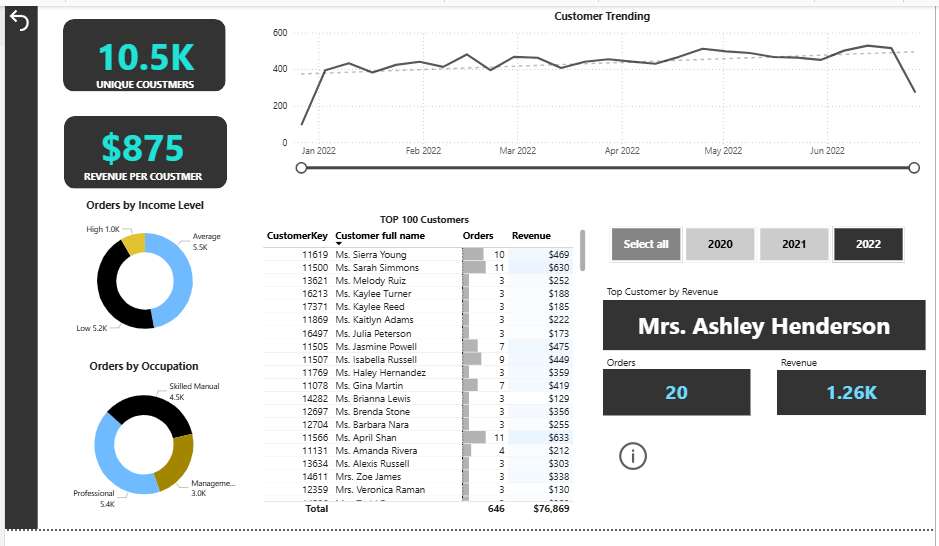

This screenshot's page, from the dashboard's own definition file:
{"tool":"powerbi","page":{"name":"Customer Details","canvas":[1280,720],"ordinal":3},"visuals":[{"type":"shape","box":[0,0,45,720],"z":0},{"type":"shape","box":[80.8,151,224.7,100.1],"z":1000},{"type":"card","fields":{"Values":["Measure table.Average Revenue per coustmer"]},"box":[59.7,126.4,261.6,149.2],"z":2000},{"type":"shape","box":[80,18.6,224.3,100],"z":3000},{"type":"card","fields":{"Values":["Measure table.Total coustmer"]},"box":[62.9,0,258.6,151.4],"z":4000},{"type":"lineChart","title":"Customer Trending","fields":{"Y":["Measure table.Total coustmer"],"Category":["Calendar Lookup.Date Hierarchy.Start of Year","Calendar Lookup.Date Hierarchy.Start of Month","Calendar Lookup.Date Hierarchy.Start of Week","Calendar Lookup.Date Hierarchy.Date"]},"box":[362.9,2.9,917.6,231.2],"z":5000},{"type":"donutChart","title":"Orders by Income Level","fields":{"Category":["Customer Lookup.Income Level"],"Y":["Measure table.Total Orders"]},"box":[62.4,263,261.7,211.2],"z":6000},{"type":"donutChart","title":"Orders by Occupation","fields":{"Y":["CountNonNull(Customer Lookup.Occupation)"],"Category":["Customer Lookup.Occupation"]},"box":[59.8,484.9,264.4,219.2],"z":7000},{"type":"tableEx","title":"TOP 100 Customers","fields":{"Values":["Customer Lookup.CustomerKey","Customer Lookup.Customer full name","Measure table.Total Orders","Measure table.Total Revenue"]},"box":[349.8,285.4,455.1,418.5],"z":8000},{"type":"card","fields":{"Values":["Customer Lookup.Full Name (Customer Detail)"]},"box":[823.6,405.2,443.7,69.1],"z":9000},{"type":"textbox","box":[823.6,378.6,308.2,26.6],"z":10000},{"type":"card","fields":{"Values":["Measure table.Total Revenue (Customer Details)"]},"box":[1062.7,500.8,204.6,62.4],"z":11000},{"type":"card","fields":{"Values":["Measure table.Total Orders(Customer Deatils)"]},"box":[823.6,499.5,203.2,63.8],"z":12000},{"type":"textbox","box":[823.6,475.6,203.2,26.6],"z":13000},{"type":"textbox","box":[1062.7,475.6,200.6,30.6],"z":14000},{"type":"slicer","fields":{"Values":["Calendar Lookup.Date.Variation.Date Hierarchy.Year"]},"box":[806.7,295.4,456,63.9],"z":15000},{"type":"actionButton","box":[0,0,60,39.5],"z":16000},{"type":"actionButton","box":[840,594.1,57.1,49.8],"z":17000}]}

Visuals, with their boxes on the page's 1280x720 design canvas (x1, y1, x2, y2). These are canvas units, not pixel positions in the 939x546 screenshot, which may show the page scaled, cropped or inside an application window:
shape: [0, 0, 45, 720]
shape: [81, 151, 306, 251]
card - Measure table.Average Revenue per coustmer: [60, 126, 321, 276]
shape: [80, 19, 304, 119]
card - Measure table.Total coustmer: [63, 0, 322, 151]
"Customer Trending" lineChart: [363, 3, 1280, 234]
"Orders by Income Level" donutChart: [62, 263, 324, 474]
"Orders by Occupation" donutChart: [60, 485, 324, 704]
"TOP 100 Customers" tableEx: [350, 285, 805, 704]
card - Customer Lookup.Full Name (Customer Detail): [824, 405, 1267, 474]
textbox: [824, 379, 1132, 405]
card - Measure table.Total Revenue (Customer Details): [1063, 501, 1267, 563]
card - Measure table.Total Orders(Customer Deatils): [824, 500, 1027, 563]
textbox: [824, 476, 1027, 502]
textbox: [1063, 476, 1263, 506]
slicer - Calendar Lookup.Date.Variation.Date Hierarchy.Year: [807, 295, 1263, 359]
actionButton: [0, 0, 60, 40]
actionButton: [840, 594, 897, 644]
